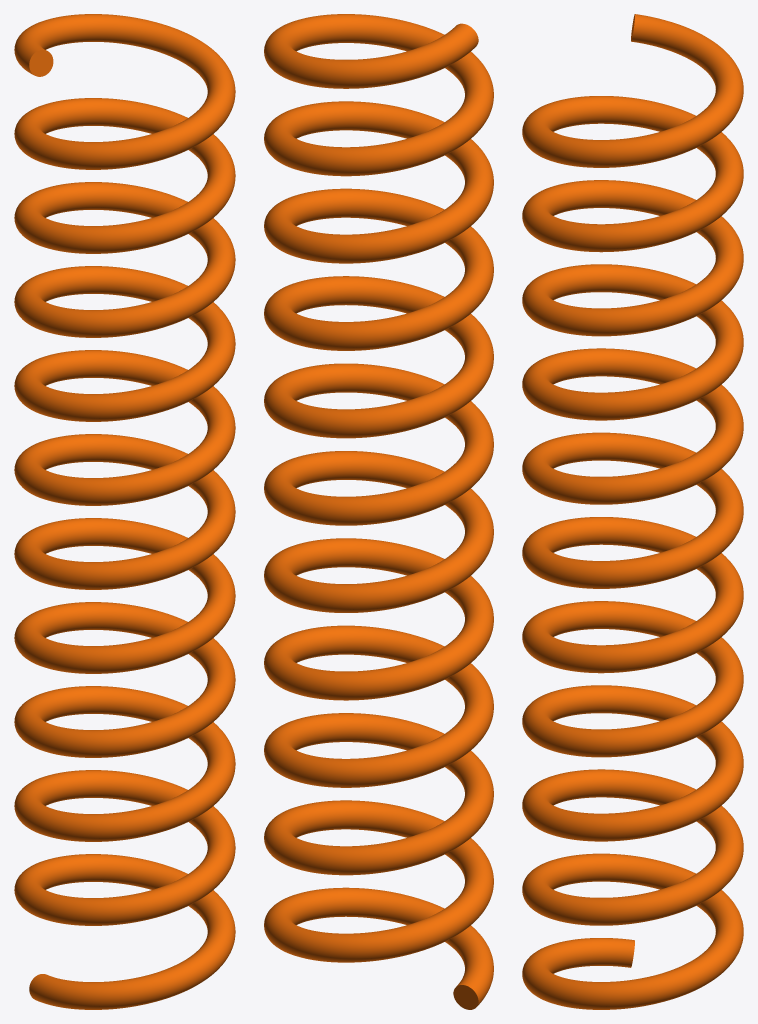
The model's file is rear-sns-inner-spring-v1.glb.
3 views of the same model, side by side, from view 1: azimuth 30°, elevation 25°; view 2: azimuth 150°, elevation 25°; view 3: azimuth 270°, elevation 25° (orthographic). The views are drawn at different scales.
Parts seen in each view (by area): view 1: Related SNS orange inner spring - estimated gray study; view 2: Related SNS orange inner spring - estimated gray study; view 3: Related SNS orange inner spring - estimated gray study.
Part boxes in pixels (x1,y1,x2,y2): Related SNS orange inner spring - estimated gray study: (14,14,235,1009); Related SNS orange inner spring - estimated gray study: (264,14,493,1009); Related SNS orange inner spring - estimated gray study: (522,14,743,1009).
Bounding box in the file's own units: 0.0412 × 0.1951 × 0.0412.
